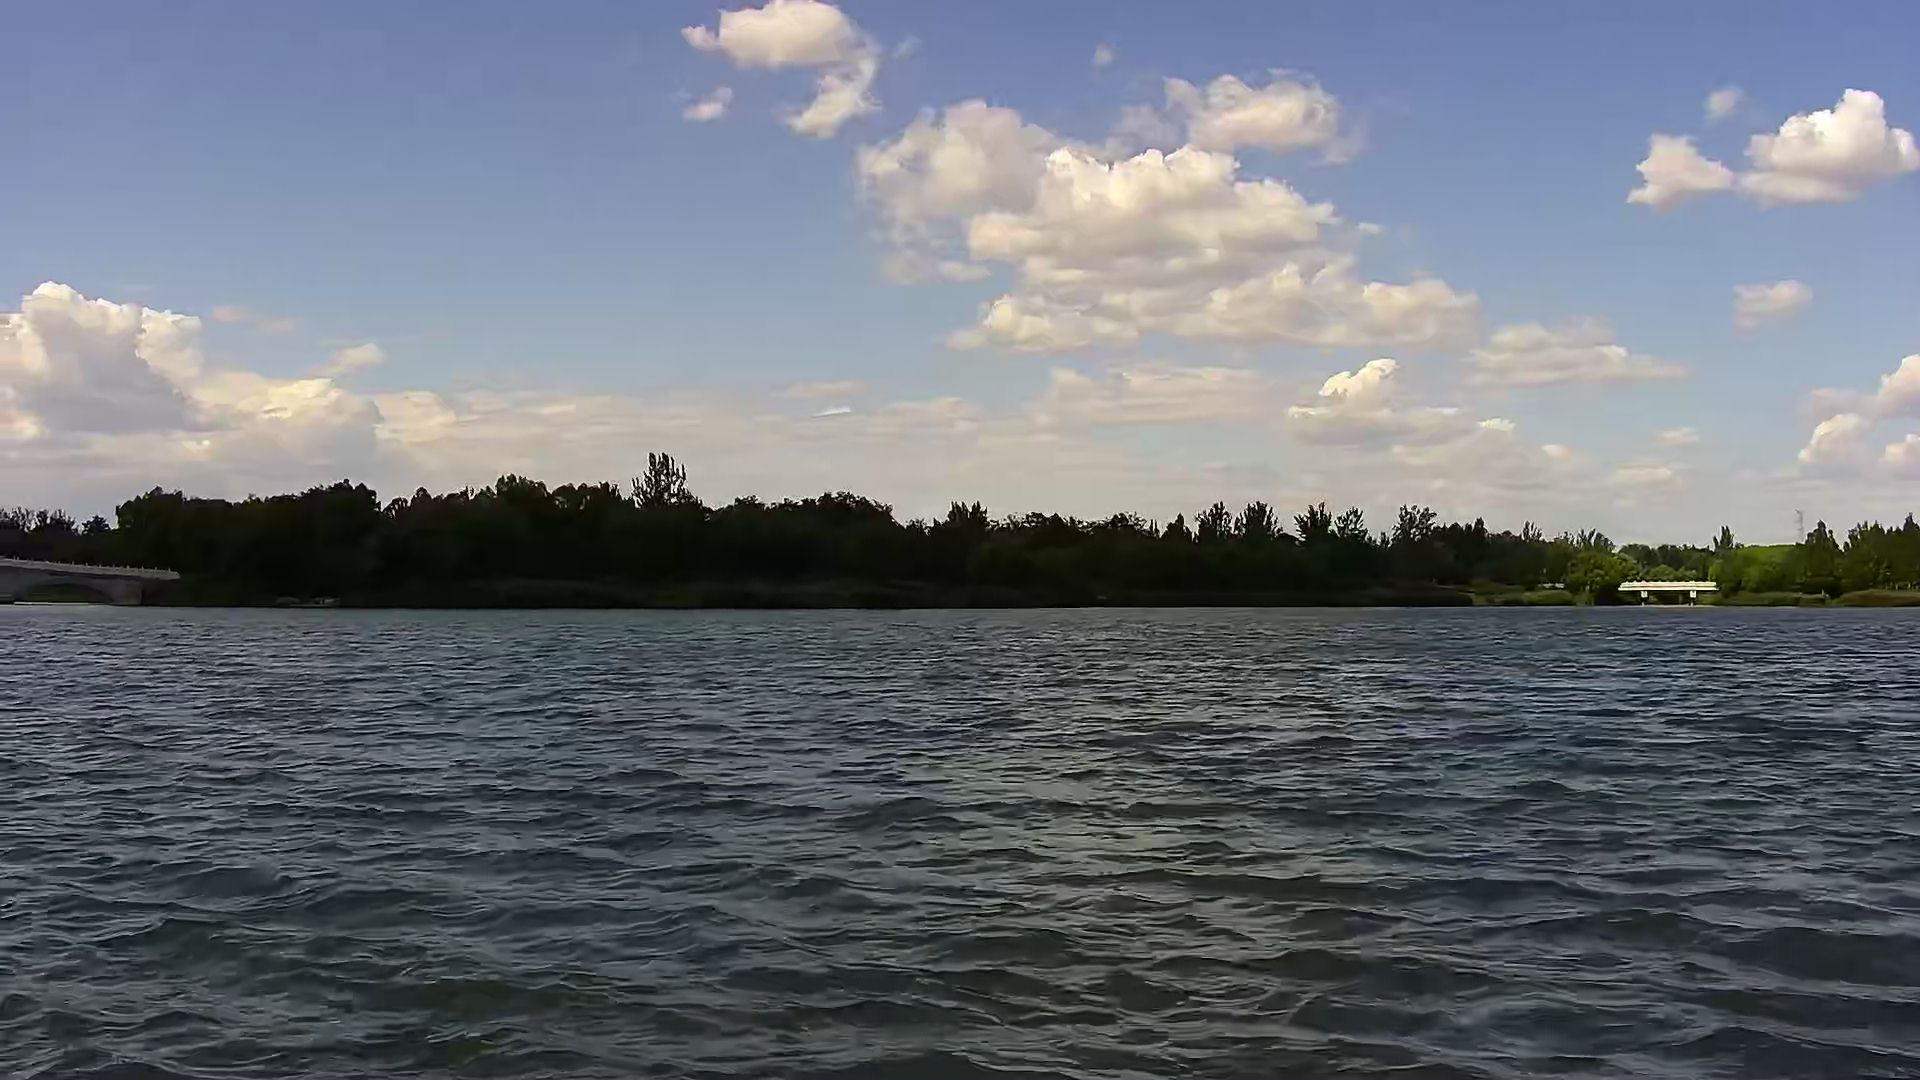bridge: (1, 555, 181, 608), (1618, 575, 1725, 608)
